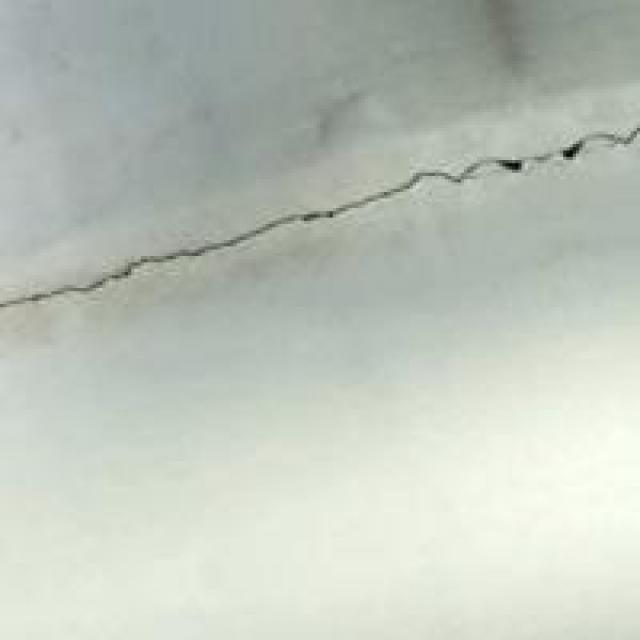Crack: (3, 90, 637, 362)
